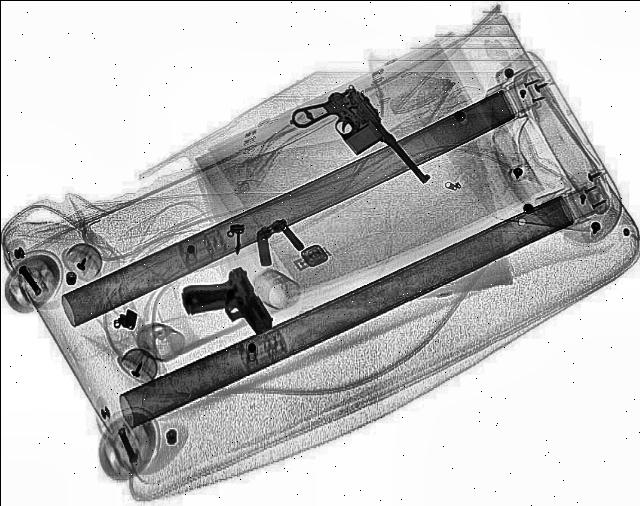Gun: (282, 80, 438, 211), (173, 265, 279, 351)
